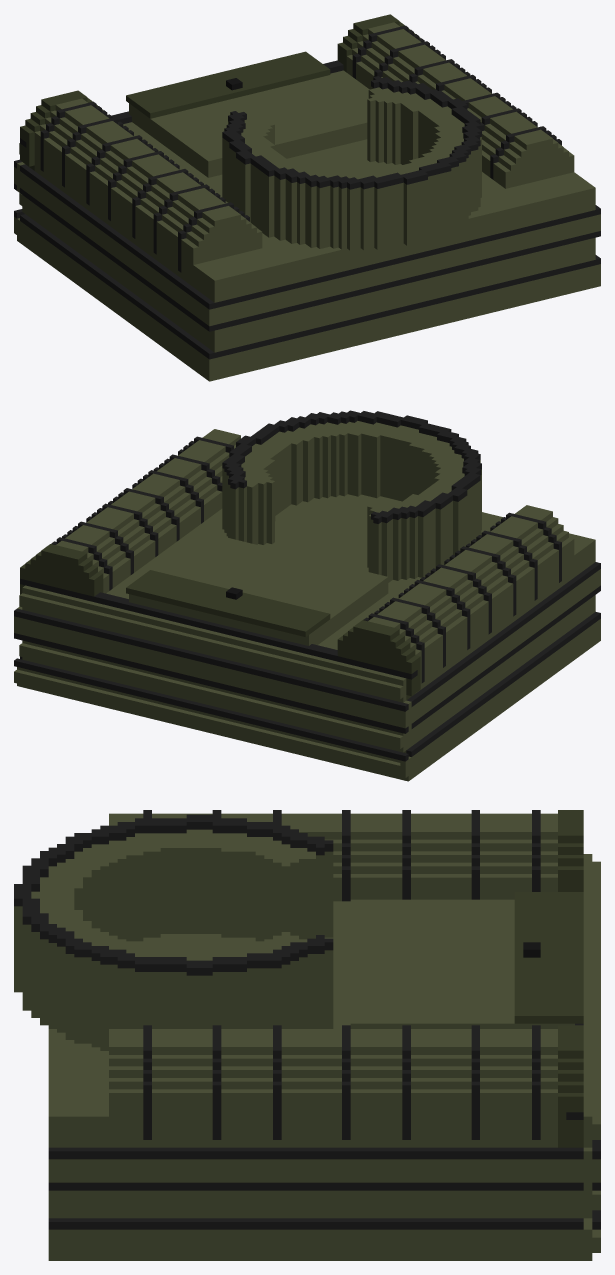
The model's file is jacket_eod.glb.
3 renders of one model, top to bottom at view 1: azimuth 30°, elevation 25°; view 2: azimuth 150°, elevation 25°; view 3: azimuth 270°, elevation 25°, orthographic. The views are drawn at different scales.
Visible parts, largest first — view 1: jacket_eod:compound; view 2: jacket_eod:compound; view 3: jacket_eod:compound.
Boxes of the visible parts, left/top/right/bottom form: jacket_eod:compound: left=14, top=14, right=600, bottom=381; jacket_eod:compound: left=14, top=410, right=600, bottom=781; jacket_eod:compound: left=14, top=810, right=600, bottom=1260.
Bounding box in the file's own units: 0.444 × 0.18 × 0.408.
